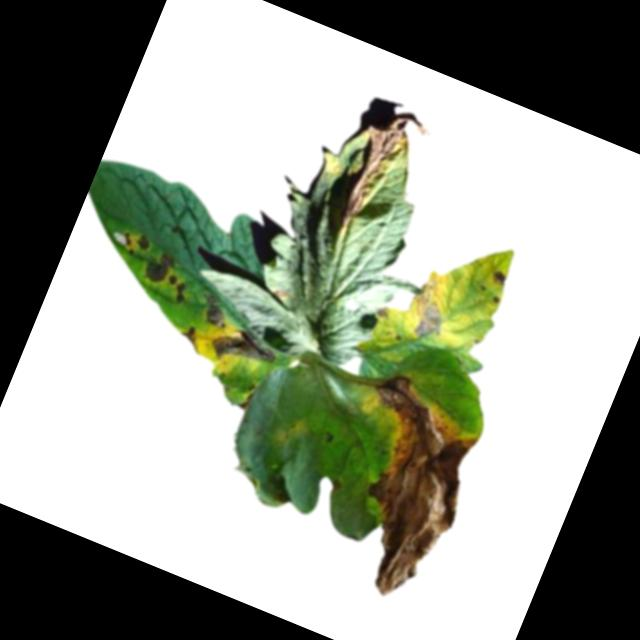Early_blight: (304, 368, 498, 611), (326, 100, 433, 249), (205, 316, 282, 381), (400, 282, 457, 347), (194, 291, 232, 331), (139, 247, 176, 288), (117, 227, 152, 263), (172, 318, 204, 354), (161, 273, 192, 306), (487, 268, 508, 289)
